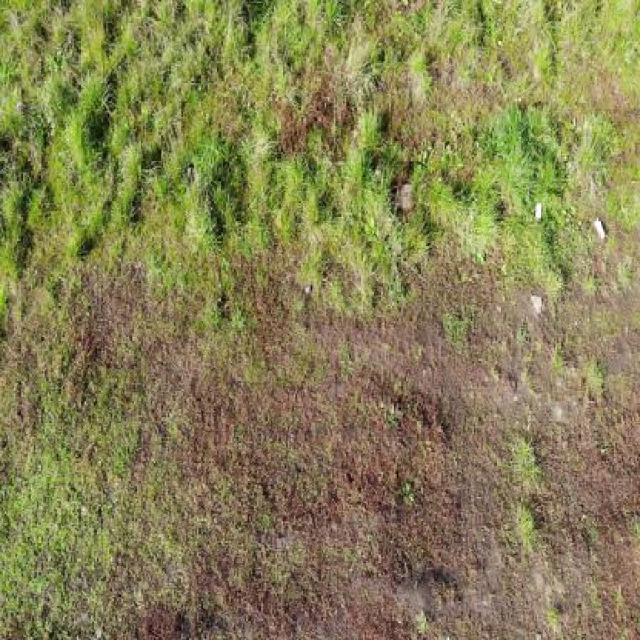Garbage: (593, 215, 606, 242), (188, 162, 194, 192), (535, 201, 541, 225)
